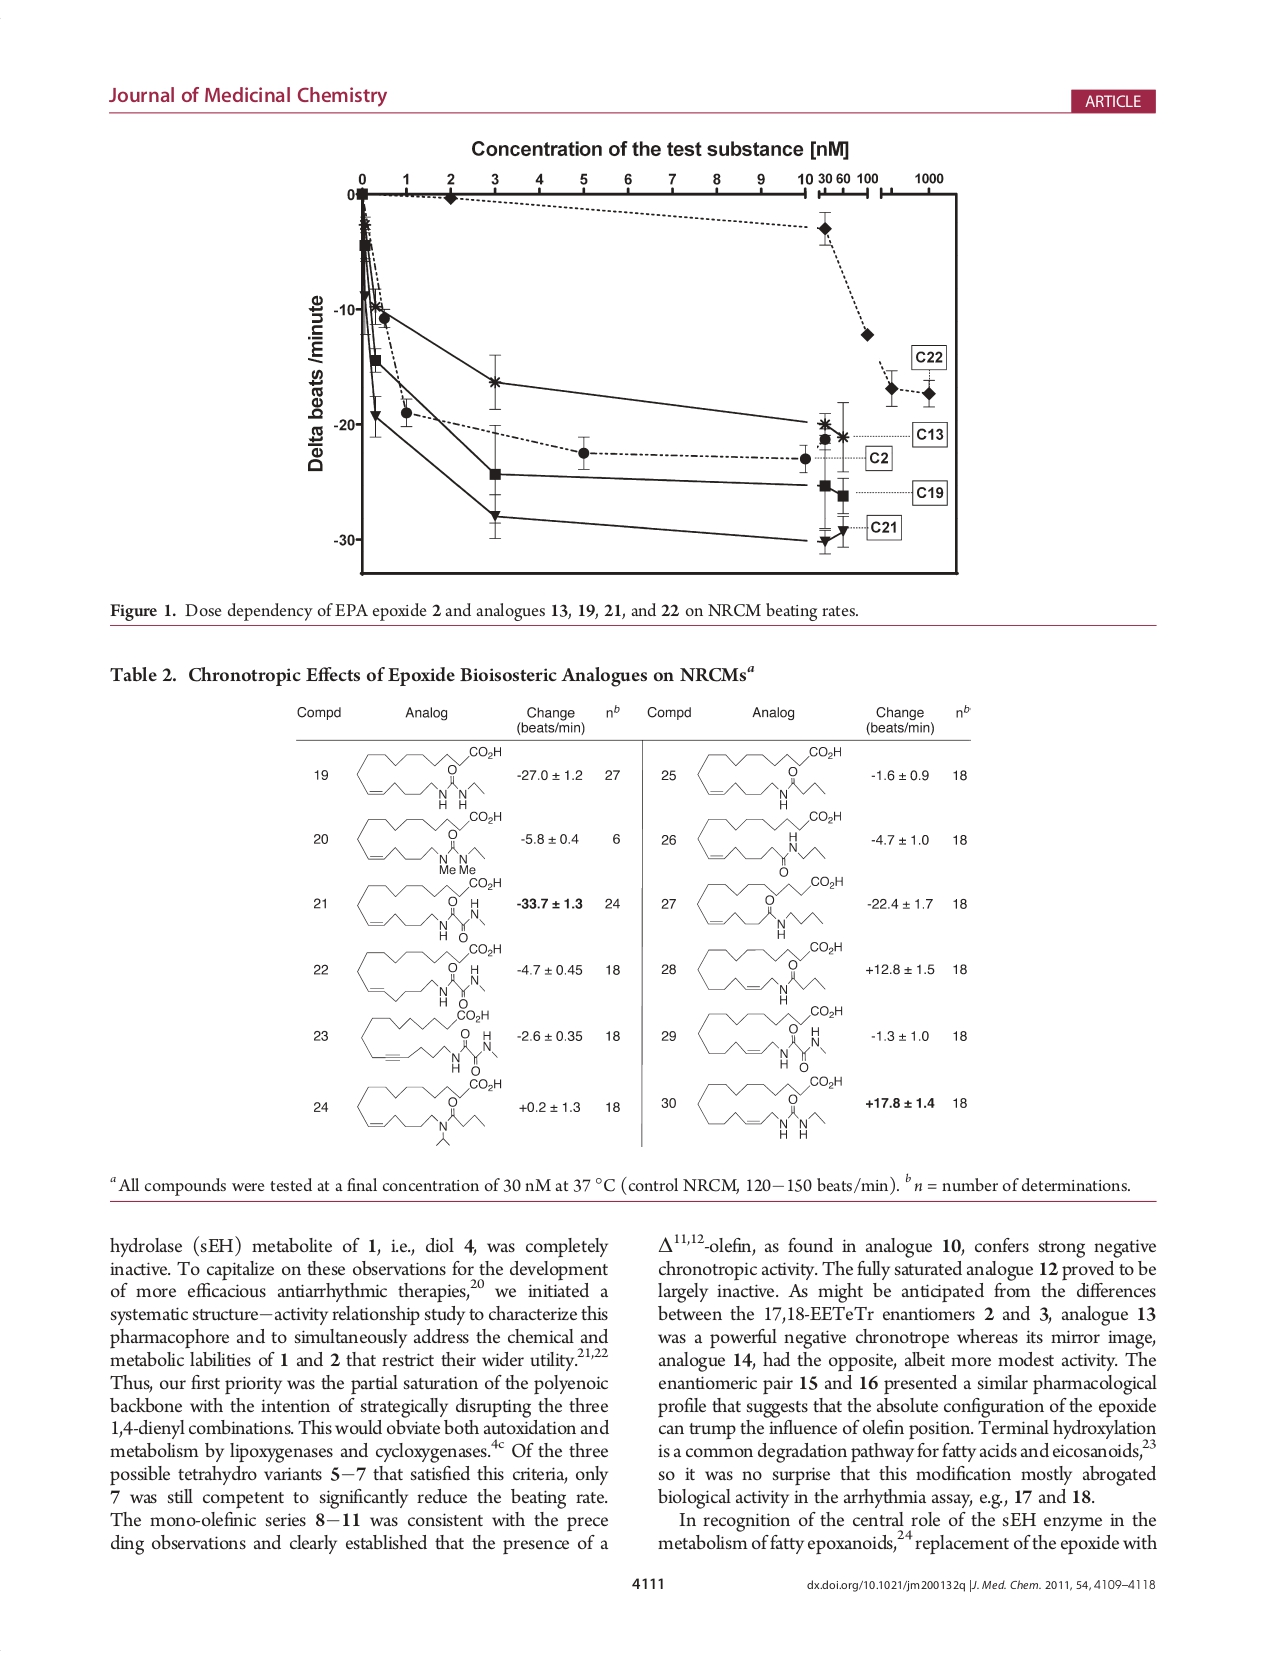exist_molecular: (354, 1076, 504, 1149), (352, 876, 505, 944), (696, 1005, 844, 1075), (696, 874, 847, 942), (694, 1075, 844, 1142), (696, 745, 844, 813), (351, 944, 505, 1009), (355, 743, 503, 811), (696, 939, 846, 1005), (696, 810, 843, 876), (354, 811, 503, 876), (356, 1009, 501, 1076)
